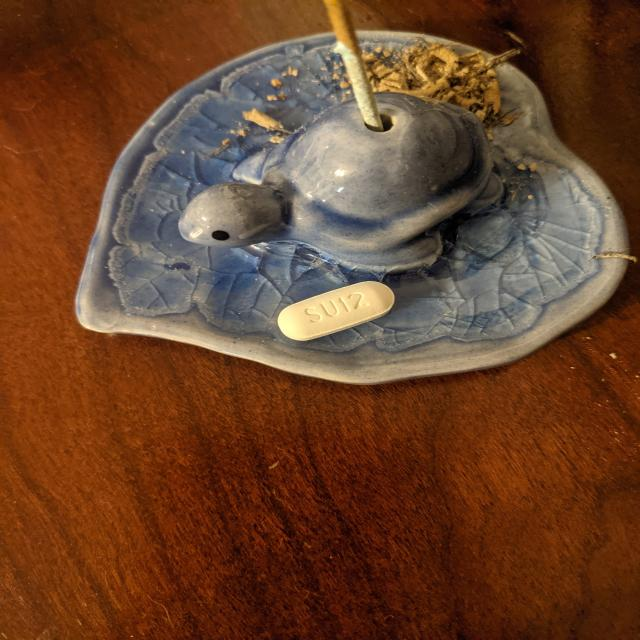non-organic waste: (276, 280, 396, 342)
